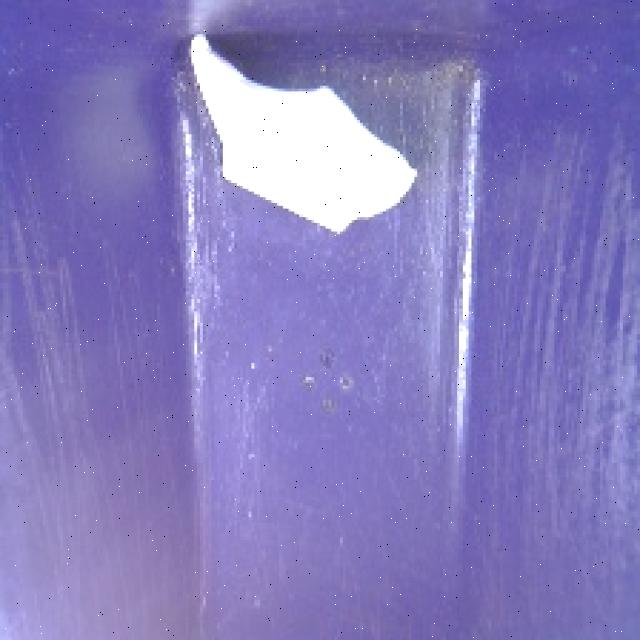china: (183, 22, 430, 245)
